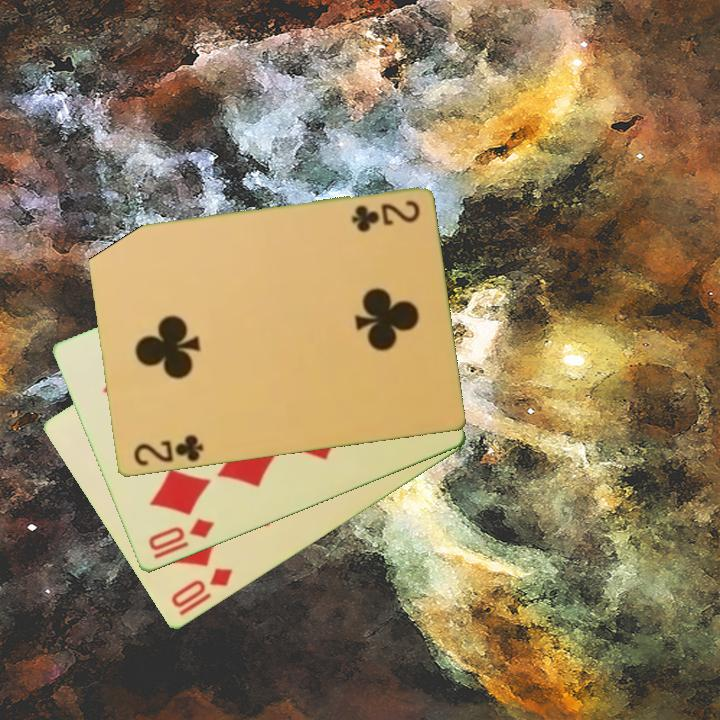10d: (167, 564, 236, 620), (144, 515, 218, 555)
2c: (130, 431, 206, 470), (348, 197, 423, 233)
